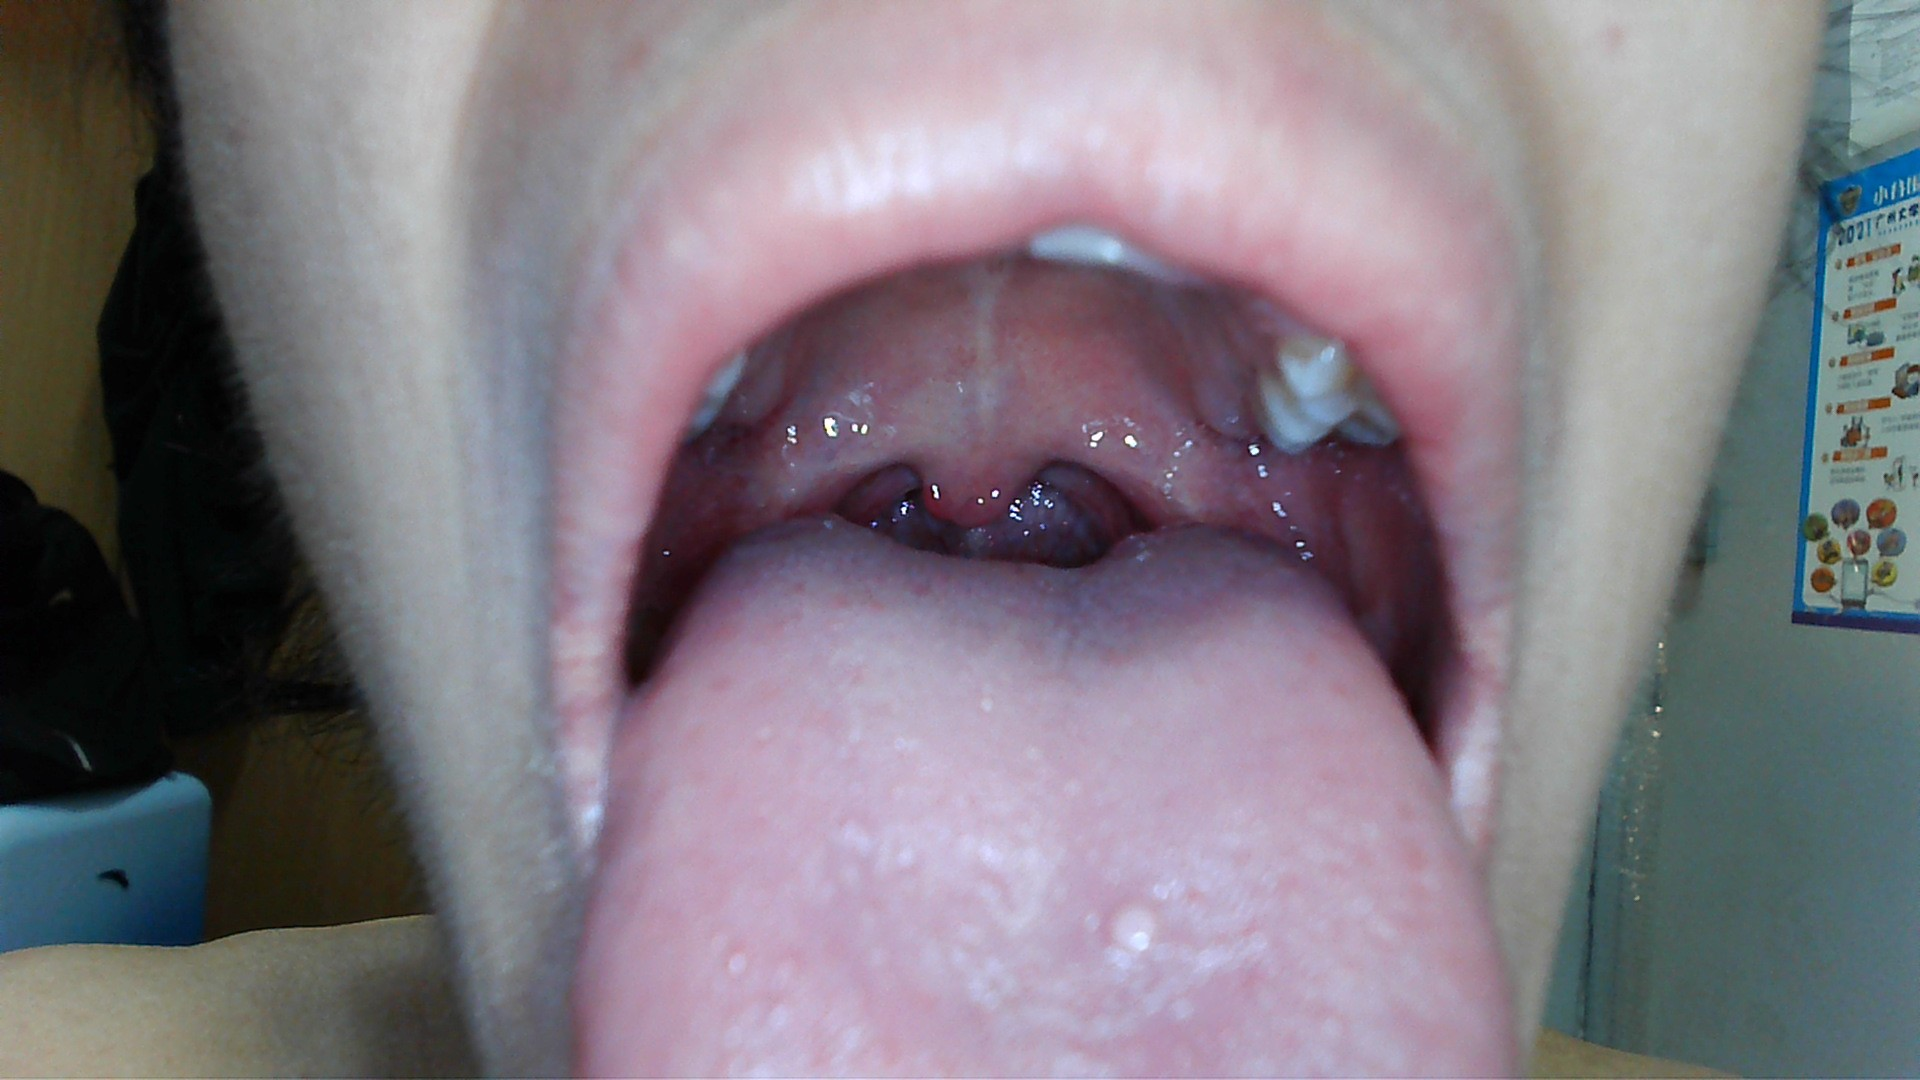throat: (1069, 425, 1185, 524), (774, 411, 882, 512)
